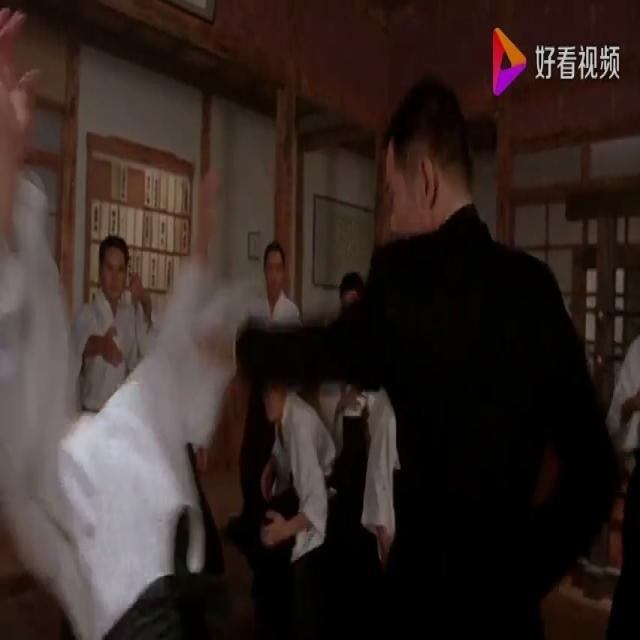fight: (0, 31, 638, 638)
